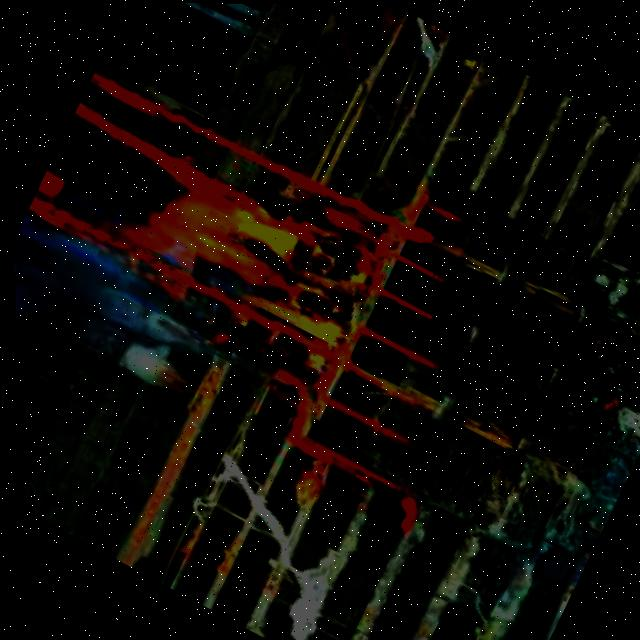Fire: (113, 155, 381, 359)
